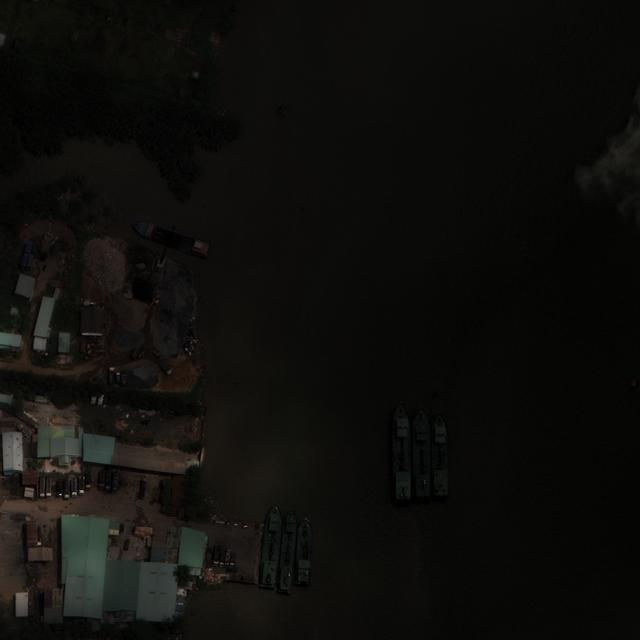Cargo: (129, 217, 211, 260)
Oil Tanker: (258, 502, 286, 589), (276, 508, 301, 593), (393, 401, 413, 502), (292, 516, 317, 588), (412, 409, 430, 500), (431, 409, 448, 497)
